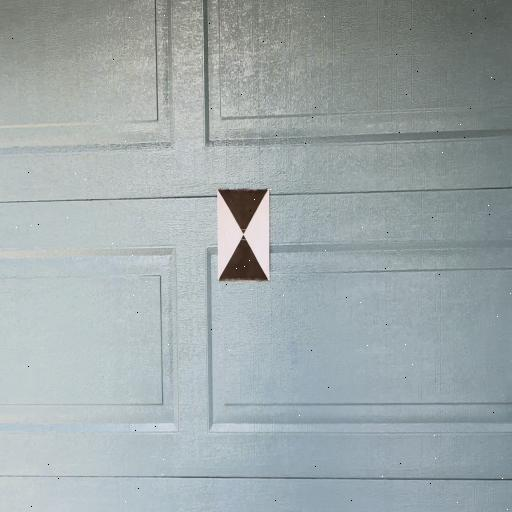target: (218, 190, 270, 280)
